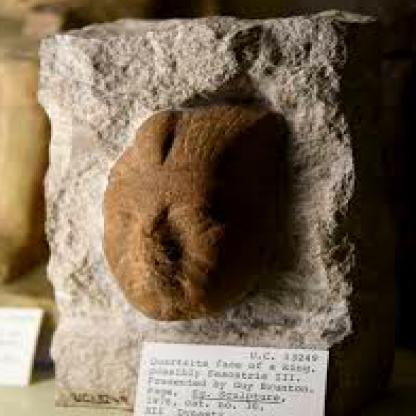Metamorphic_Quartize: (96, 92, 288, 322)
